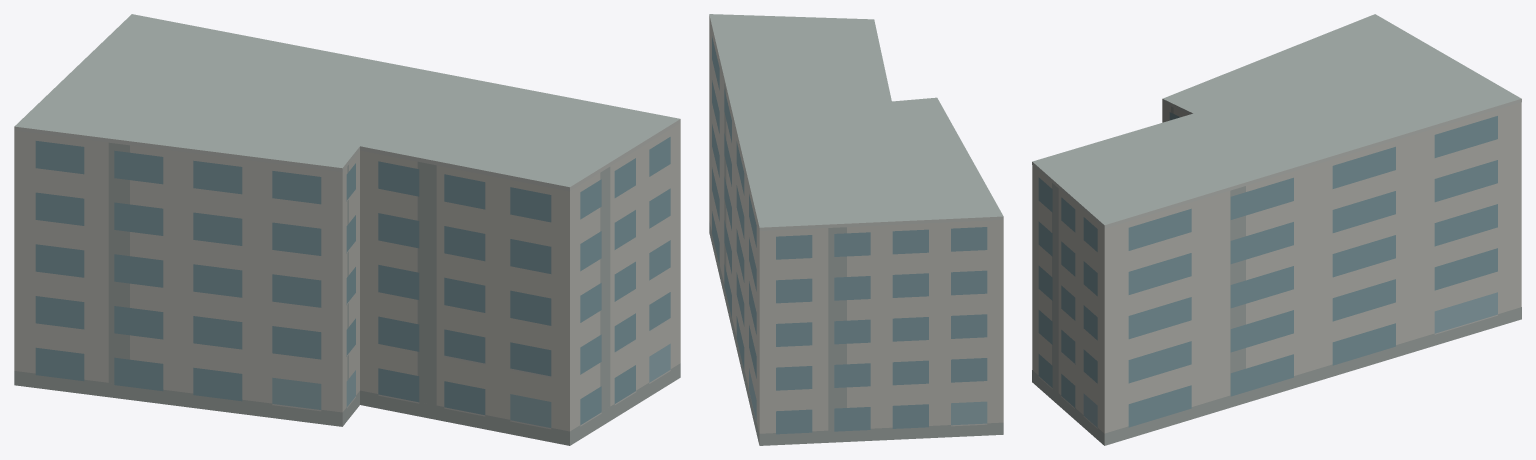
Rendered from residential-e80f6048-f98c-4dfb-a620-f4507a8d5e41.glb.
The picture shows the model from 3 angles, left to right: view 1: azimuth 30°, elevation 25°; view 2: azimuth 150°, elevation 25°; view 3: azimuth 270°, elevation 25°; orthographic projection. The views are drawn at different scales.
Parts seen in each view (by area): view 1: residential-e80f6048-f98c-4dfb-a620-f4507a8d5e41.tmp; view 2: residential-e80f6048-f98c-4dfb-a620-f4507a8d5e41.tmp; view 3: residential-e80f6048-f98c-4dfb-a620-f4507a8d5e41.tmp.
Boxes of the visible parts, box(x1,y1,x2,y2) form: residential-e80f6048-f98c-4dfb-a620-f4507a8d5e41.tmp: box(14, 14, 680, 445); residential-e80f6048-f98c-4dfb-a620-f4507a8d5e41.tmp: box(709, 14, 1003, 445); residential-e80f6048-f98c-4dfb-a620-f4507a8d5e41.tmp: box(1032, 14, 1521, 445).
Bounding box in the file's own units: 31.33 × 15.25 × 30.68.
